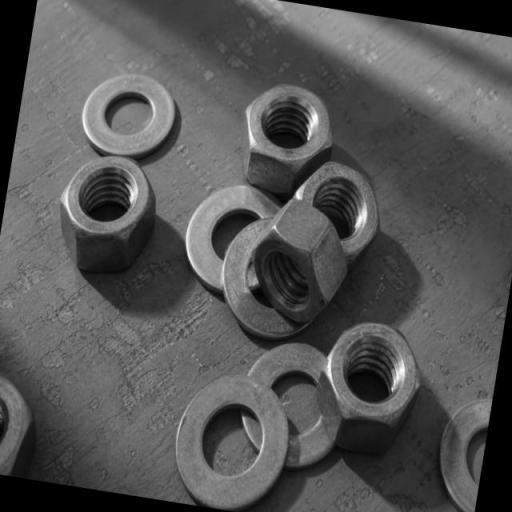Nut: (250, 201, 349, 328), (326, 322, 421, 454), (60, 156, 156, 275), (245, 84, 333, 197), (285, 160, 379, 260), (0, 374, 35, 478)
Washer: (175, 375, 290, 510), (240, 342, 343, 469), (222, 216, 320, 340), (185, 184, 285, 297), (81, 74, 176, 158), (439, 400, 489, 512)
